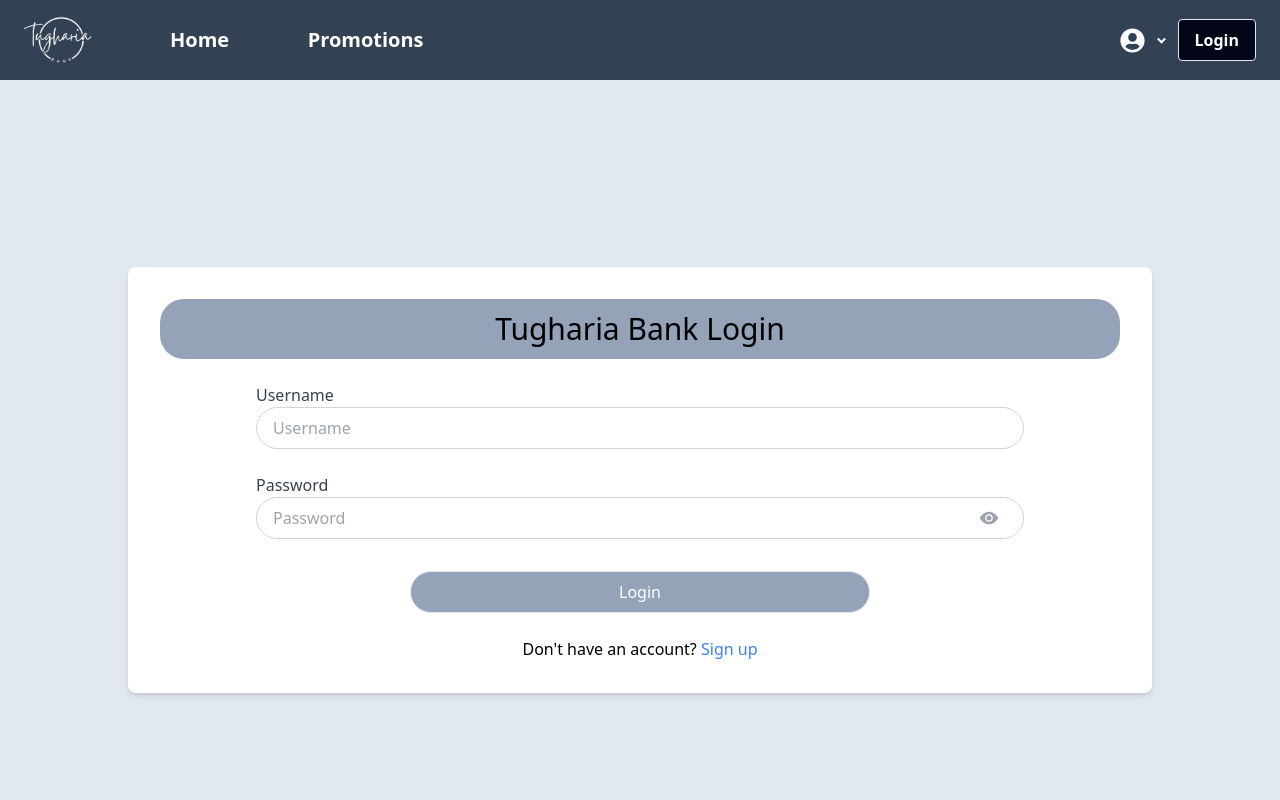
Test case: LoginPage System Test › should show error message on invalid login
This screenshot has width=1280, height=800.
Type "invalidUsername" into the field with placeholder "Username".
click(640, 428); type("invalidUsername")  # box [256, 407, 1024, 449]
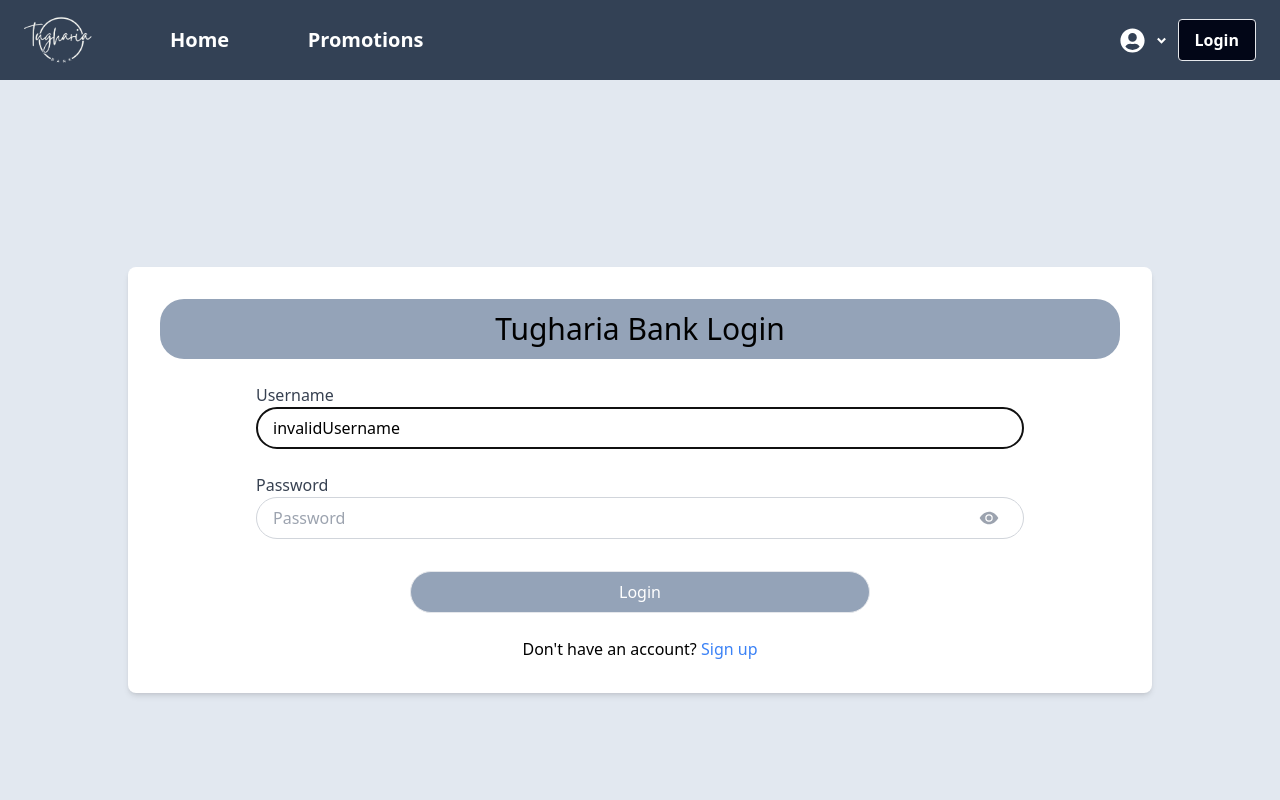
Type "invalidPassword" into the password field with placeholder "Password".
click(640, 518); type("invalidPassword")  # box [256, 497, 1024, 539]
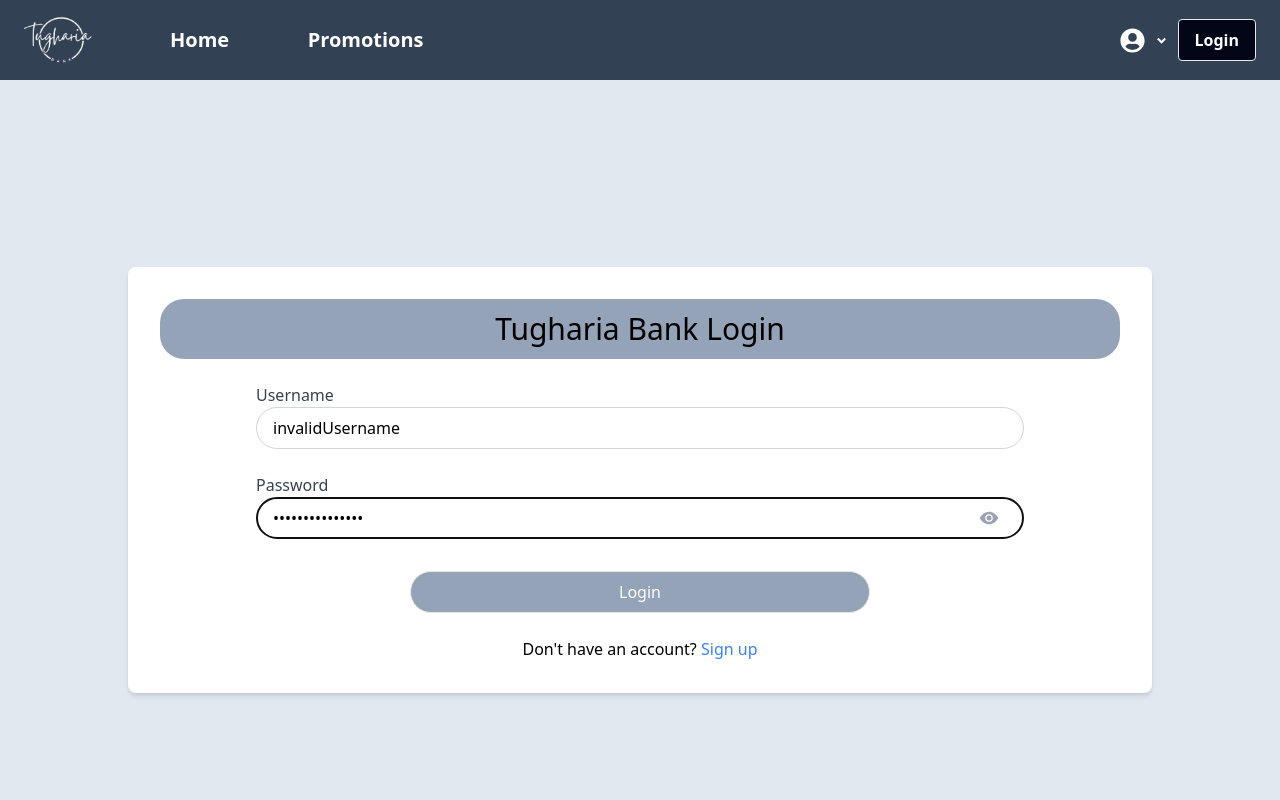
Click the submit button.
click(641, 592)  # box [410, 571, 871, 613]
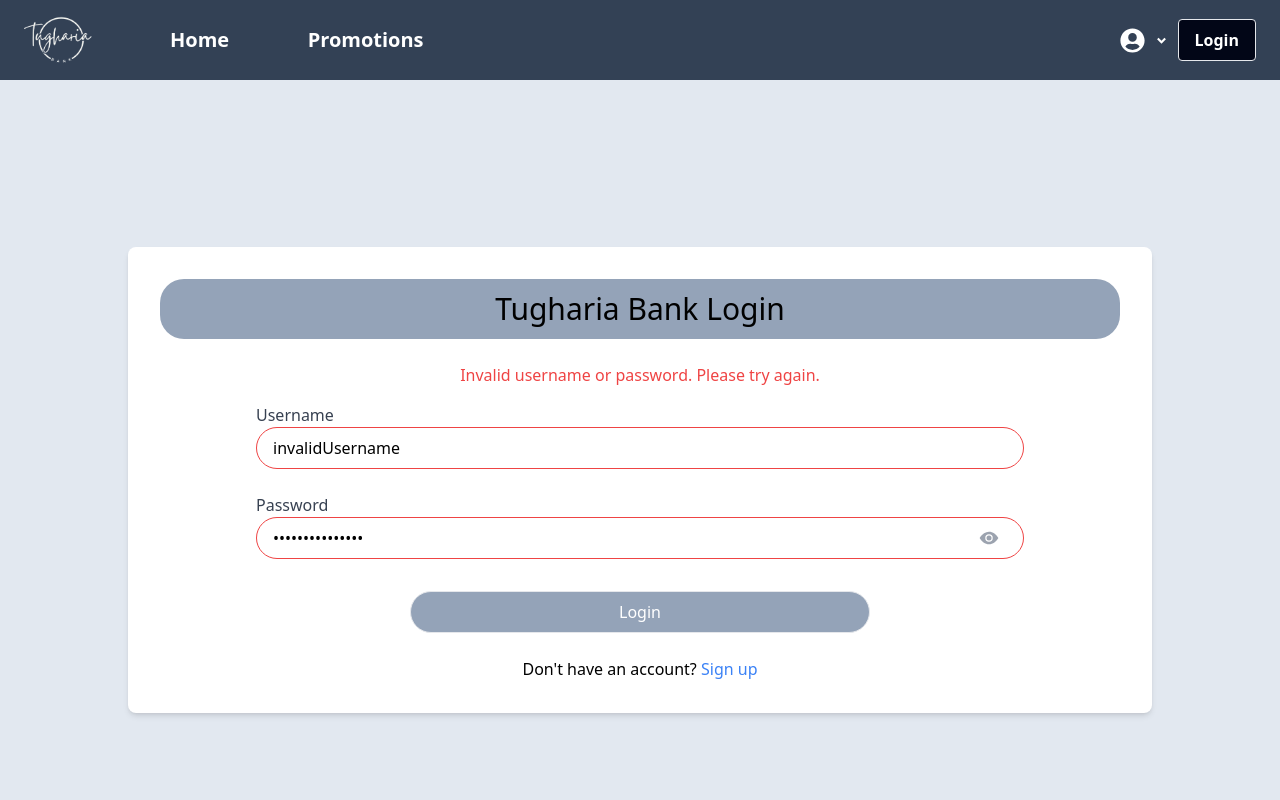
Expected: the text with test id "error-message" reads "Invalid username or password. Please try again.", [460, 364, 820, 386]
